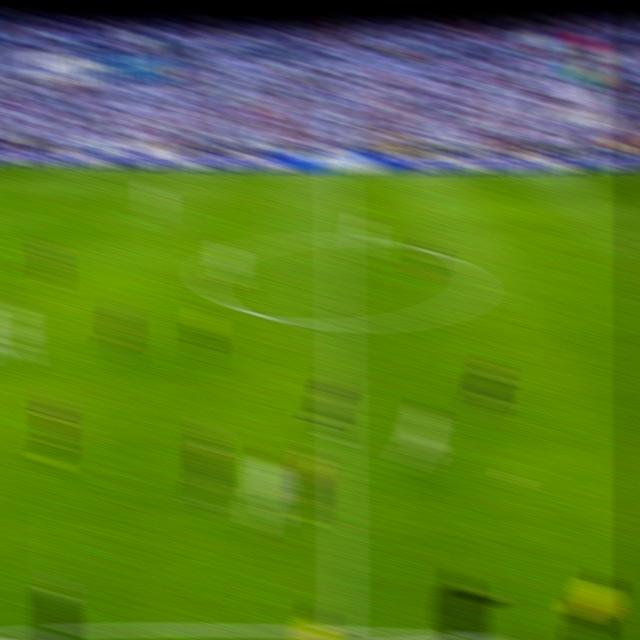halfcircle_bottom: (326, 305, 354, 342)
halfcircle_top: (326, 222, 352, 255)
midline_bottom_intersection: (326, 606, 357, 639)
midline_top_intersection: (327, 169, 350, 186)
